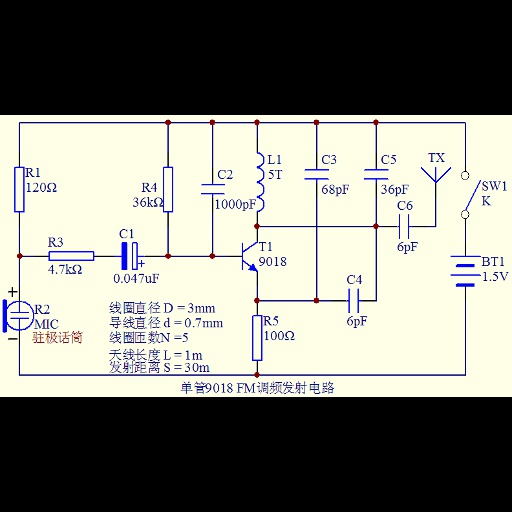battery: (445, 252, 482, 292)
capacitor: (394, 212, 414, 241), (343, 286, 363, 314), (359, 166, 391, 182), (197, 181, 228, 197), (300, 166, 330, 182)
firstresistance: (8, 164, 26, 217), (247, 313, 264, 366), (160, 164, 176, 215), (45, 249, 97, 262)
inductor: (252, 144, 268, 216)
npn: (232, 235, 260, 276)
